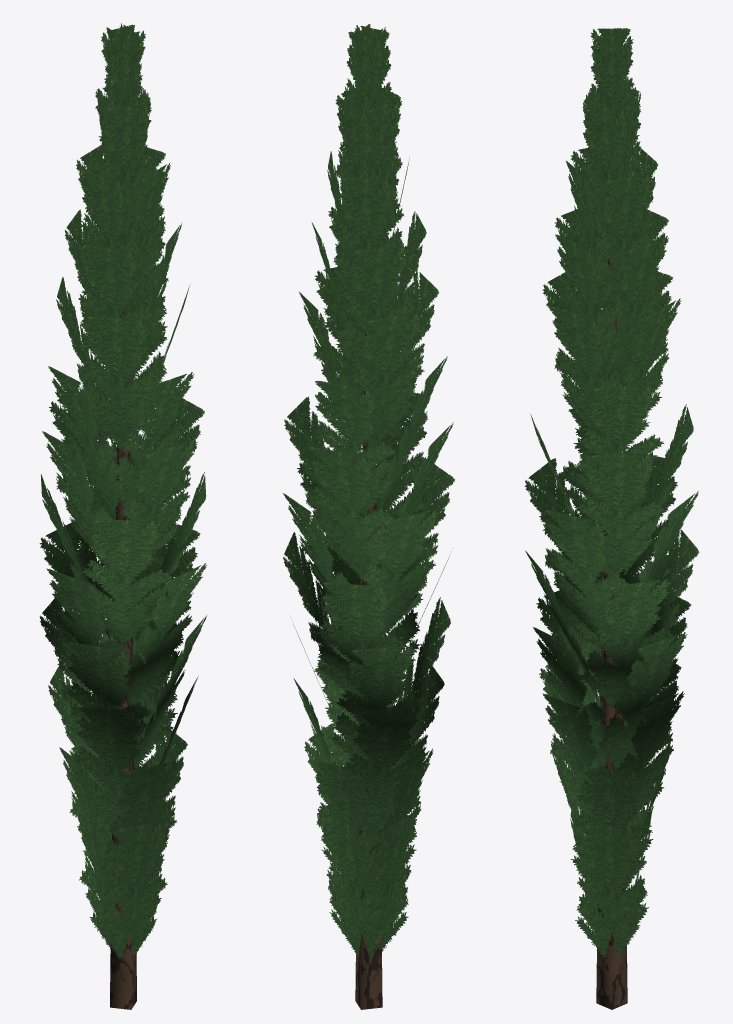
File: cypress0_lod1.fbx
The picture shows the model from 3 angles, left to right: view 1: azimuth 30°, elevation 25°; view 2: azimuth 150°, elevation 25°; view 3: azimuth 270°, elevation 25°; orthographic projection.
Visible parts, largest first — view 1: cypress0_lod1; view 2: cypress0_lod1; view 3: cypress0_lod1.
Boxes of the visible parts, x1,y1,x2,y2 form: cypress0_lod1: (39, 23, 206, 1009); cypress0_lod1: (283, 24, 454, 1009); cypress0_lod1: (524, 28, 699, 1009).
Bounding box in the file's own units: 2.98 × 15 × 2.98.
Materials: 2 (2 with a texture image).
